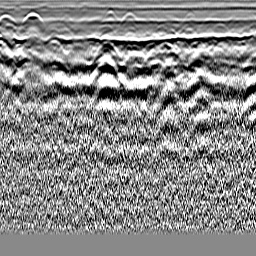cavity: (121, 9, 137, 26)
